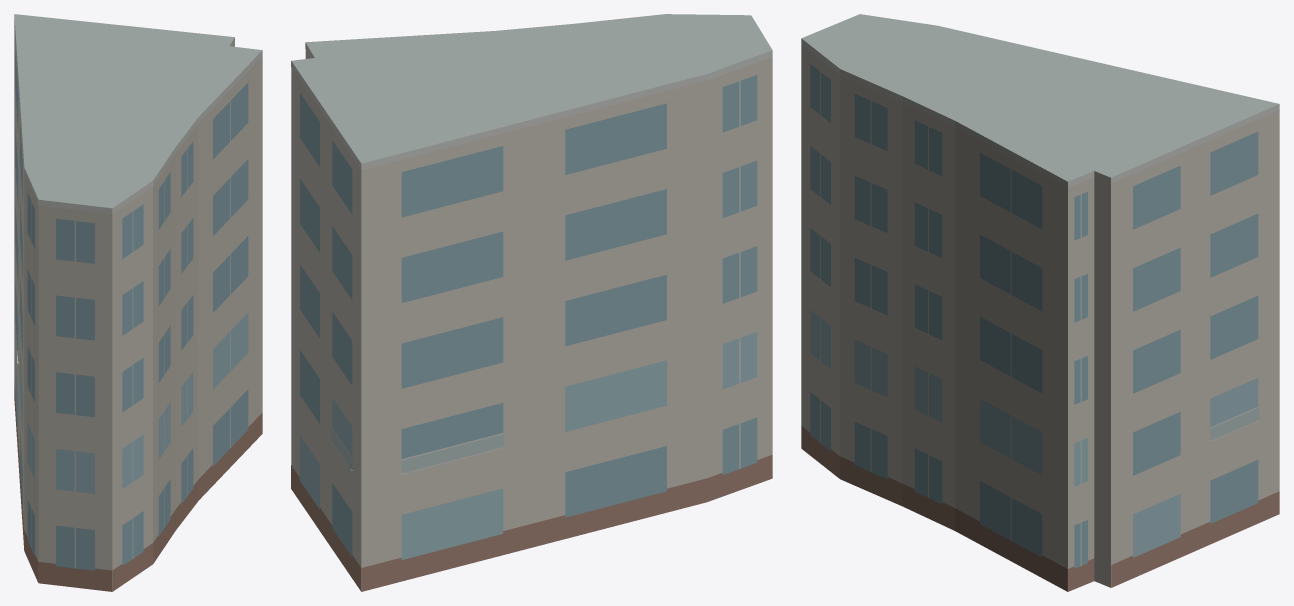
The model's file is survey-upis-32714884.glb.
The picture shows the model from 3 angles, left to right: view 1: azimuth 30°, elevation 25°; view 2: azimuth 150°, elevation 25°; view 3: azimuth 270°, elevation 25°; orthographic projection. The views are drawn at different scales.
Visible parts, largest first — view 1: survey-upis-32714884.tmp; view 2: survey-upis-32714884.tmp; view 3: survey-upis-32714884.tmp.
Part boxes in pixels (bbox=[...]): survey-upis-32714884.tmp: bbox=[14, 14, 262, 591]; survey-upis-32714884.tmp: bbox=[291, 14, 772, 591]; survey-upis-32714884.tmp: bbox=[801, 14, 1279, 591].
Size of the model in its own units: 14.03 by 16 by 16.91.
